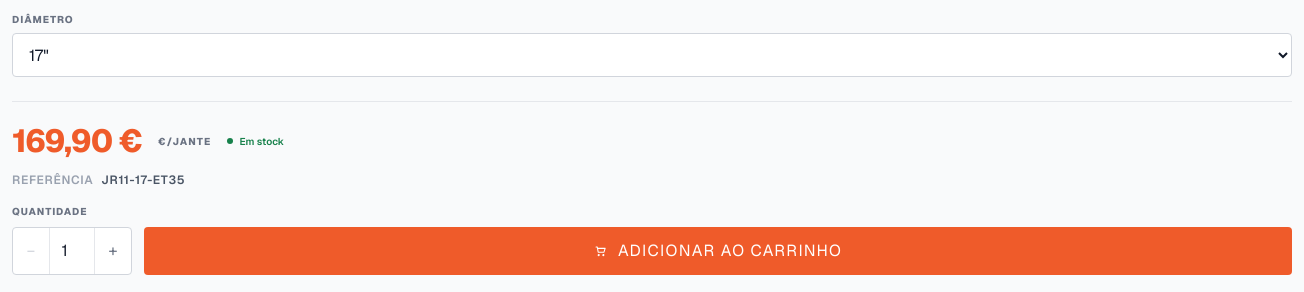
Scenario: ProductPurchasePanel › mostra preço "Desde" e badge de sem stock conforme a variante selecionada
Expected: the text "Desde" is not shown
Step 1. Select "19\"" in the dropdown labelled "Diâmetro" → (652, 55), box [12,33,1292,77]
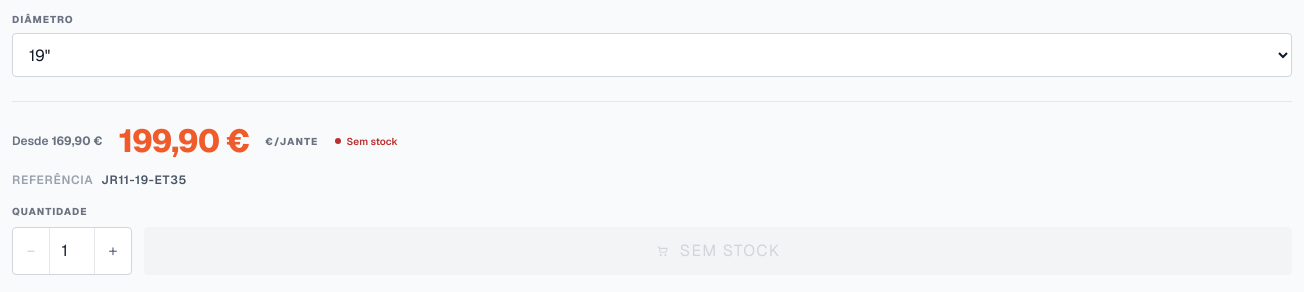
Result: the text "Desde" is shown at [12,133,48,149]
Result: the text "199,90 €" is shown at [118,122,249,160]
Result: the text "Sem stock" next to "€/jante" is shown at [347,135,398,148]
